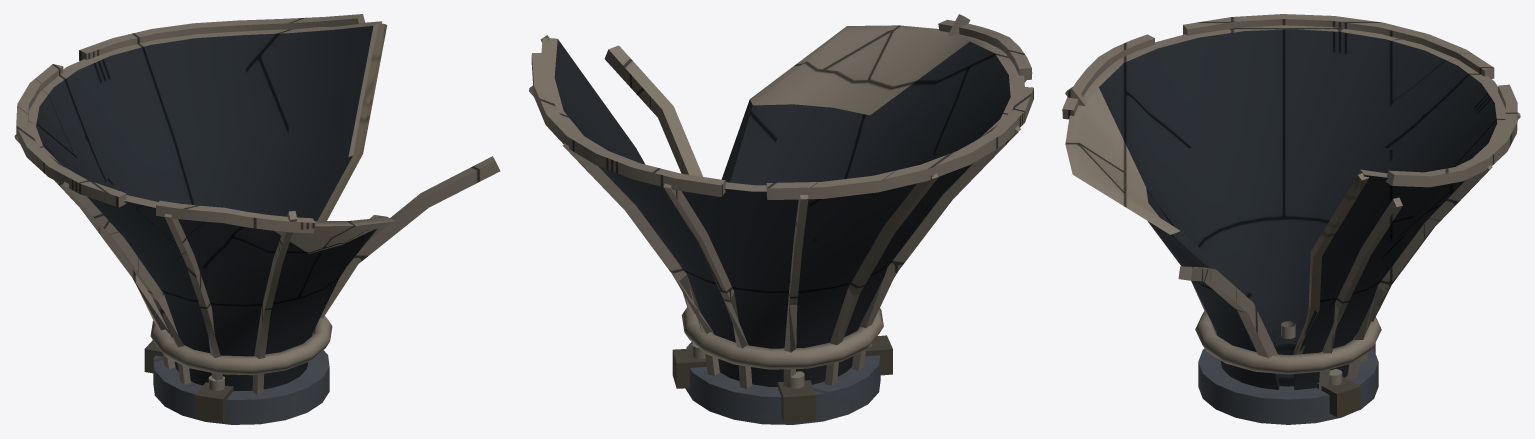
The model's file is cargo-fractured-drive-bell_lod1.glb.
3 renders of one model, left to right at view 1: azimuth 30°, elevation 25°; view 2: azimuth 150°, elevation 25°; view 3: azimuth 270°, elevation 25°, orthographic. The views are drawn at different scales.
Visible parts, largest first — view 1: LOD1_Armor, LOD1_BrushedMetal, LOD1_Mechanical, LOD1_Ceramic, LOD1_Hull; view 2: LOD1_Armor, LOD1_BrushedMetal, LOD1_Mechanical, LOD1_Hull; view 3: LOD1_Armor, LOD1_BrushedMetal, LOD1_Mechanical, LOD1_Ceramic, LOD1_Hull, LOD1_MechanicalDark.
Part boxes in pixels (x1,y1,x2,y2): LOD1_Armor: [36, 25, 376, 390]; LOD1_BrushedMetal: [14, 14, 500, 394]; LOD1_Mechanical: [153, 350, 329, 424]; LOD1_Ceramic: [317, 22, 387, 220]; LOD1_Hull: [144, 340, 233, 422]; LOD1_Armor: [554, 39, 1010, 386]; LOD1_BrushedMetal: [529, 14, 1033, 388]; LOD1_Mechanical: [685, 342, 880, 424]; LOD1_Hull: [672, 335, 892, 422]; LOD1_Armor: [1099, 29, 1497, 389]; LOD1_BrushedMetal: [1062, 14, 1520, 390]; LOD1_Mechanical: [1198, 348, 1378, 424]; LOD1_Ceramic: [1293, 172, 1368, 354]; LOD1_Hull: [1316, 343, 1375, 417]; LOD1_MechanicalDark: [1268, 330, 1301, 386].
Bounding box in the file's own units: 2.21 × 1.55 × 2.14.
Materials: 6 (6 with a texture image).
